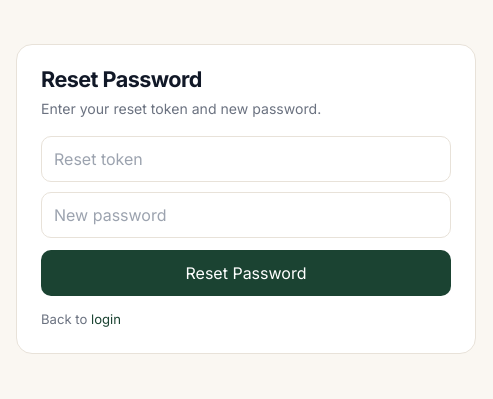
Scenario: ResetPassword page › shows API-provided error message when available
Type "token-expired" into the field with placeholder "Reset token".
click(246, 158); type("token-expired")  # box [41, 136, 451, 182]
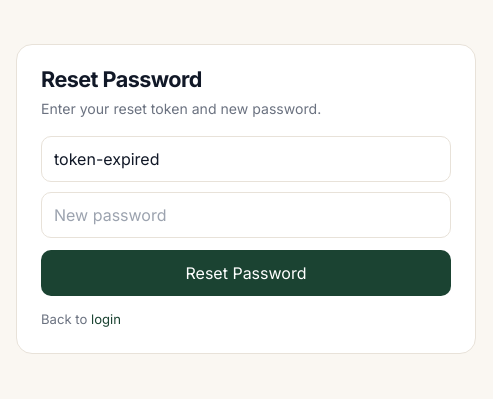
Type "newpassword" into the password field with placeholder "New password".
click(246, 214); type("newpassword")  # box [41, 192, 451, 238]
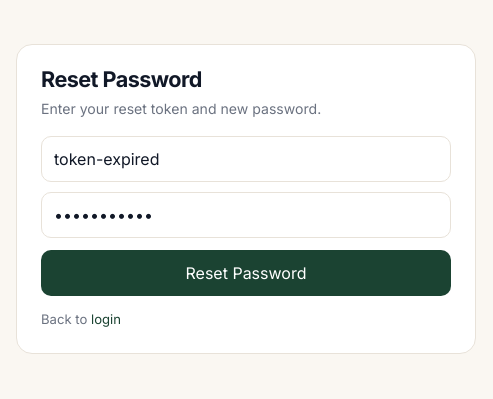
Click the button "Reset Password".
click(246, 272)  # box [41, 250, 451, 296]
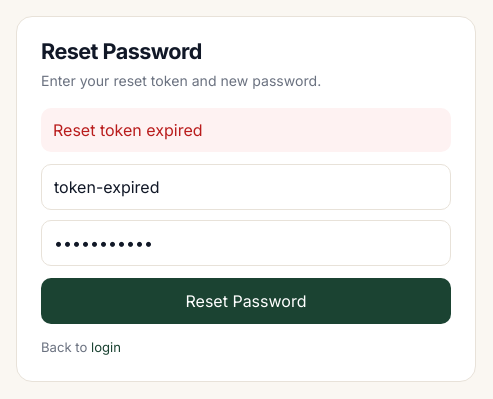
Expected: the text "Reset token expired" is shown, [41, 108, 451, 152]
